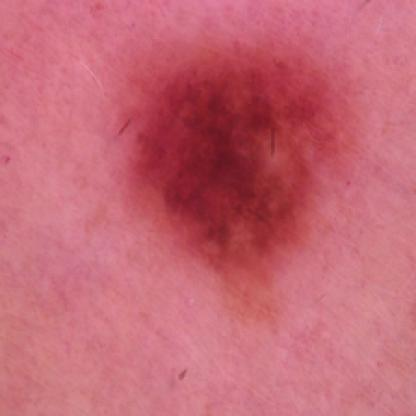benign: (132, 52, 342, 273)
